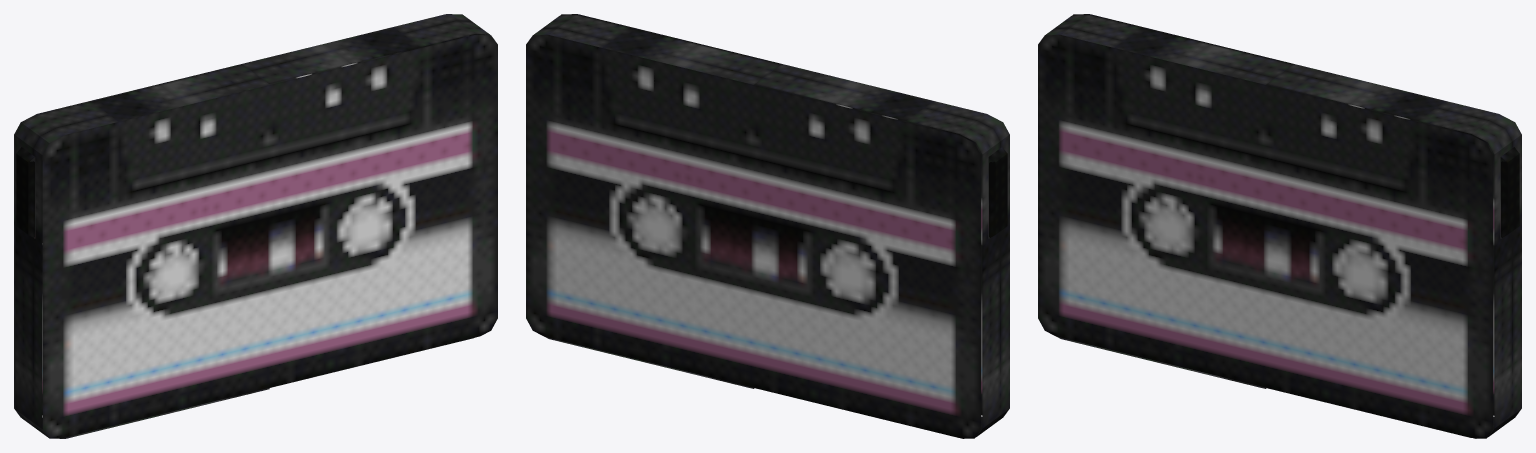
The model's file is casette.fbx.
3 views of the same model, side by side, from view 1: azimuth 30°, elevation 25°; view 2: azimuth 150°, elevation 25°; view 3: azimuth 330°, elevation 25° (orthographic).
Parts seen in each view (by area): view 1: Casette; view 2: Casette; view 3: Casette.
Boxes of the visible parts, box(x1,y1,x2,y2) form: Casette: box(14, 14, 497, 438); Casette: box(526, 14, 1009, 438); Casette: box(1038, 14, 1521, 438).
Bounding box in the file's own units: 10.87 × 1.15 × 6.76.
